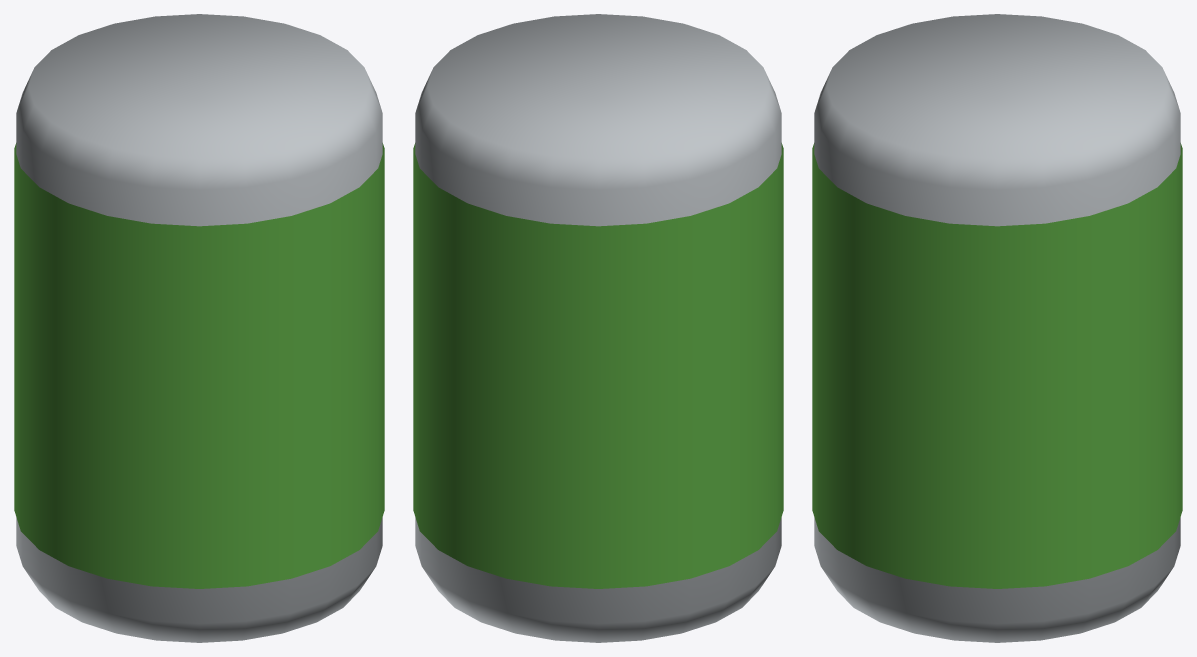
File: item_tin_green.fbx
3 views of the same model, side by side, from view 1: azimuth 30°, elevation 25°; view 2: azimuth 150°, elevation 25°; view 3: azimuth 270°, elevation 25° (orthographic).
Parts seen in each view (by area): view 1: item_tin_green; view 2: item_tin_green; view 3: item_tin_green.
Boxes of the visible parts, x1,y1,x2,y2 form: item_tin_green: (14,14,384,642); item_tin_green: (413,14,783,642); item_tin_green: (812,14,1182,642).
Bounding box in the file's own units: 0.0758 × 0.11 × 0.0758.
